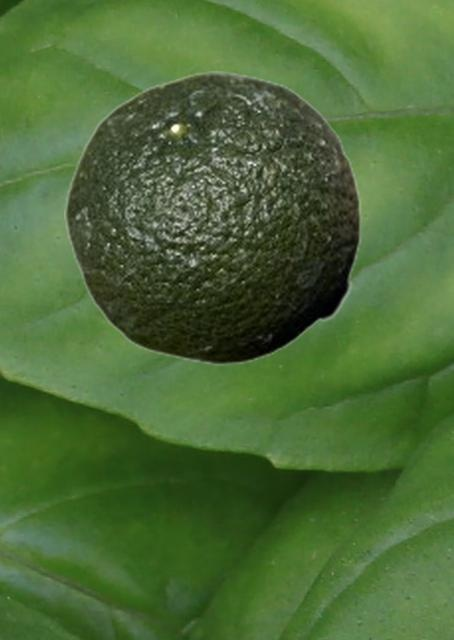calamansi: (64, 71, 361, 364)
